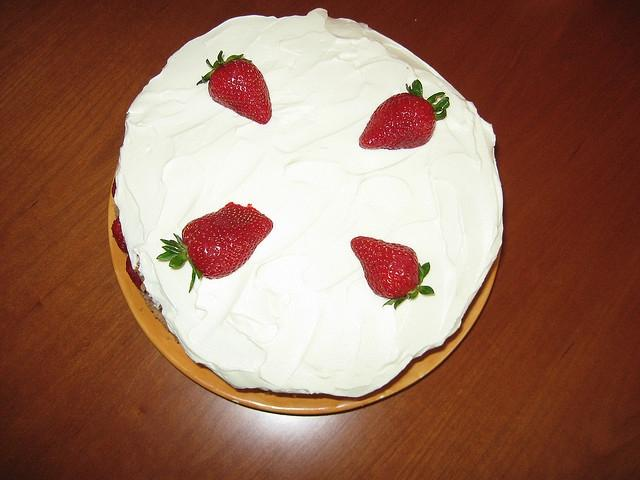strawberry: (156, 202, 274, 293), (350, 236, 436, 311), (360, 79, 450, 150), (196, 50, 272, 125)
